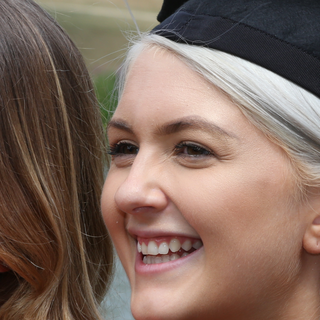eye: (167, 138, 220, 165), (102, 136, 143, 164)
